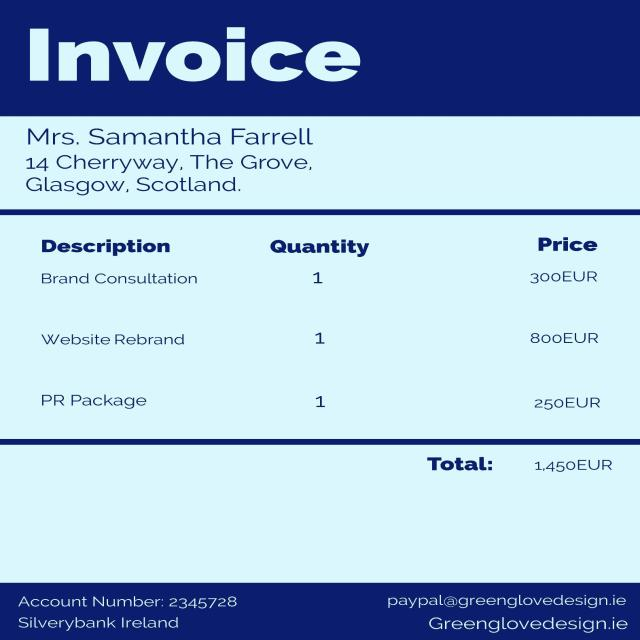paragraph: (22, 19, 375, 102), (22, 122, 330, 203), (382, 586, 636, 636), (13, 587, 254, 634), (412, 451, 631, 487)
table: (8, 218, 626, 431)
